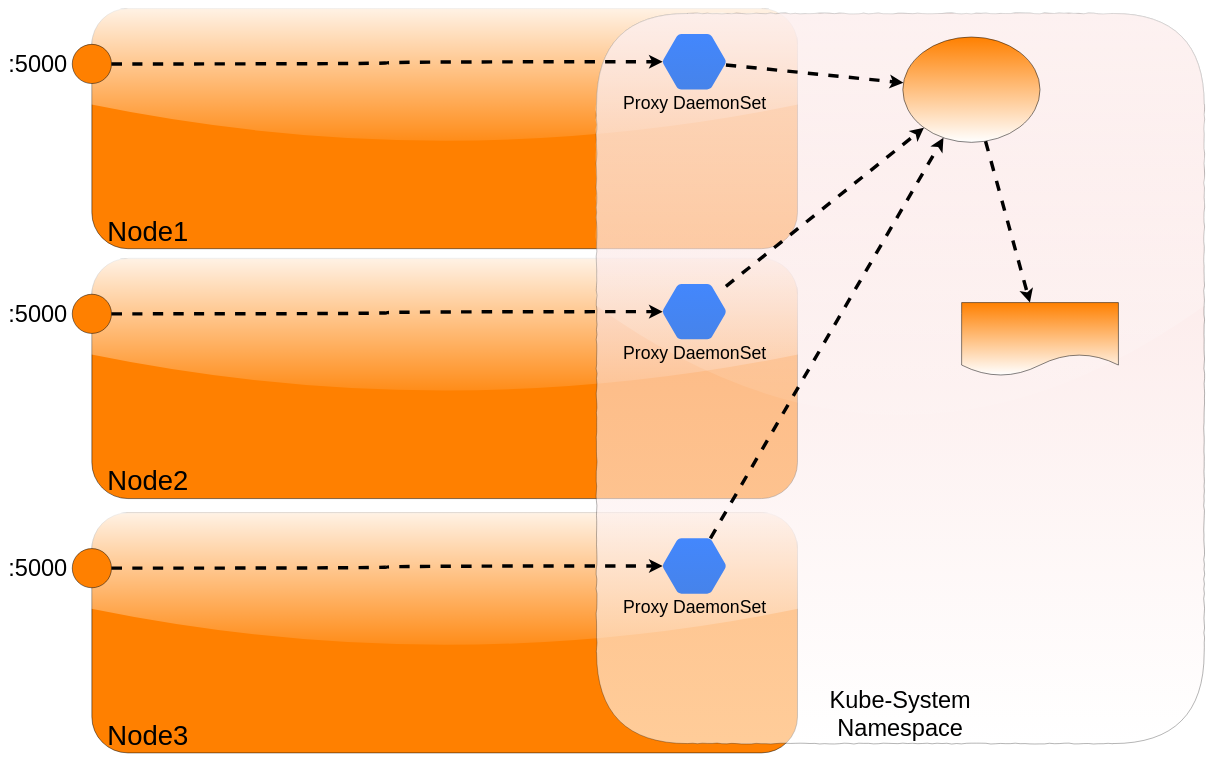
This 1213x761 diagram has some shape labels left out. Each missing label, with the centre of its shape:
"Registry Pod" belongs at point 1039,339.
"Registry Service" belongs at point 971,89.
